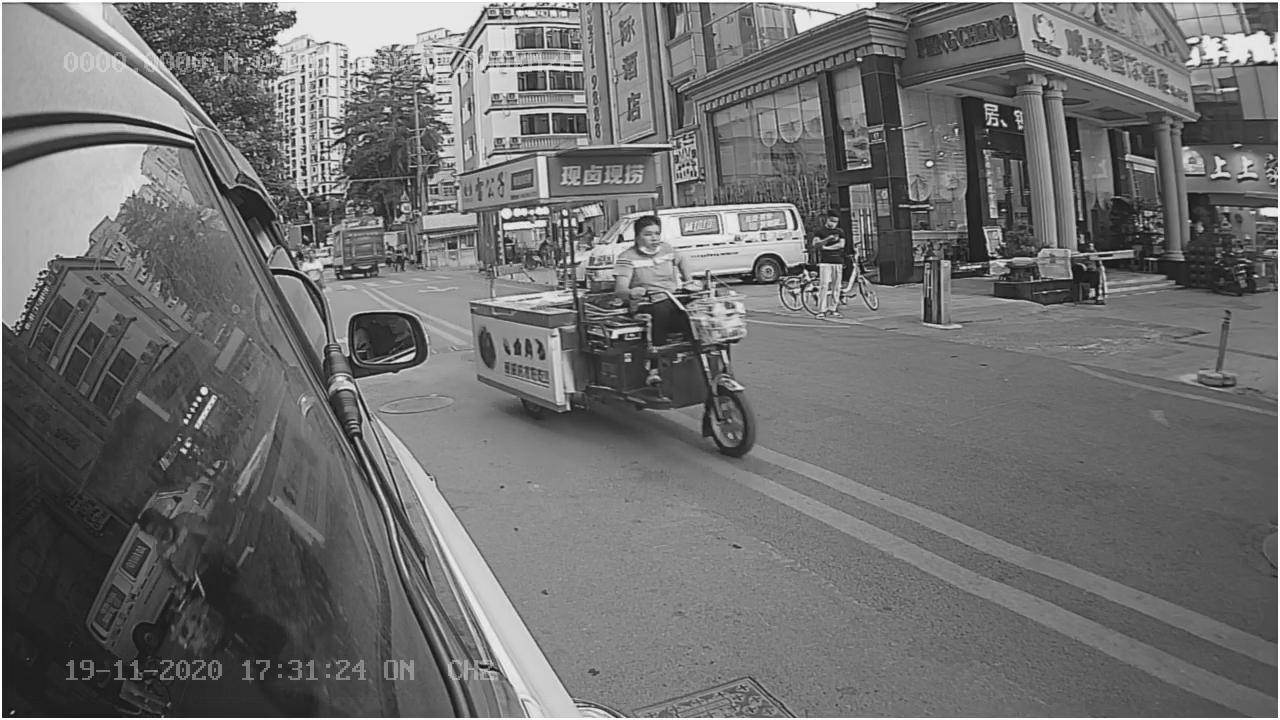person: (605, 215, 692, 290)
